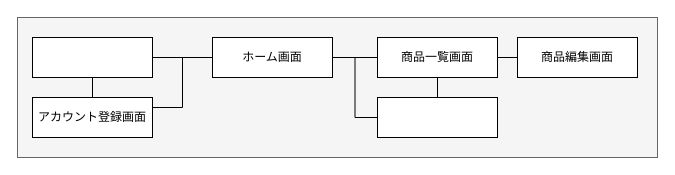
This 675x175 diagram has some shape labels left out. The box of each missing label's shape, as (x1, y1, x2, y2) in pixels:
ログイン画面: (32, 36, 152, 78)
商品登録画面: (376, 96, 498, 138)
